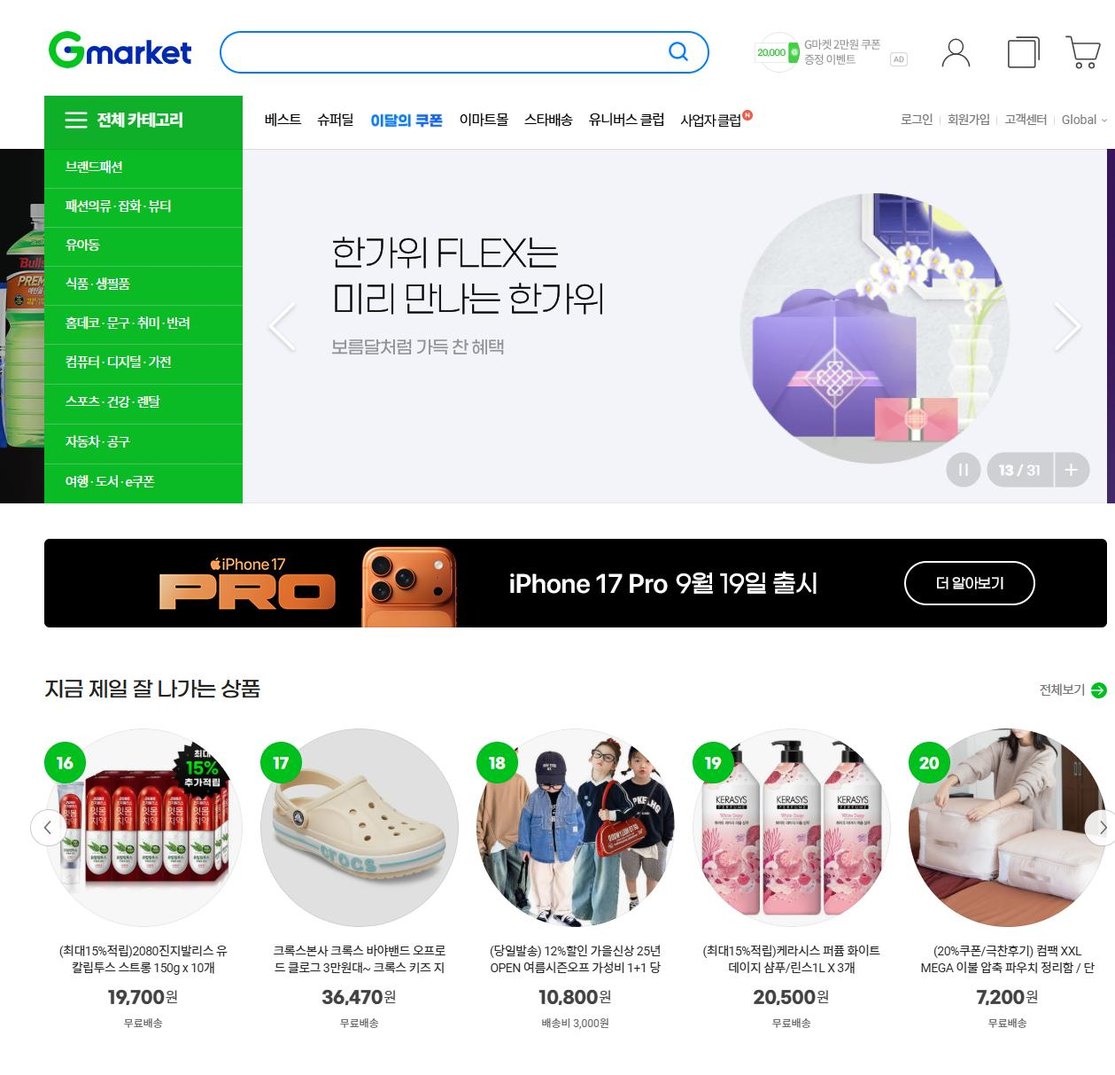button: (49, 104, 237, 146), (50, 189, 224, 227), (903, 556, 1037, 605), (52, 150, 215, 183), (51, 271, 224, 300), (52, 306, 225, 335), (54, 345, 227, 374), (56, 385, 229, 414), (56, 425, 229, 454), (52, 469, 225, 498), (52, 232, 216, 261), (993, 450, 1092, 489), (1042, 283, 1089, 356), (262, 300, 312, 362), (682, 104, 764, 140), (1031, 673, 1115, 708), (1059, 26, 1112, 81), (587, 106, 674, 139), (370, 106, 450, 140), (998, 28, 1049, 78), (522, 103, 582, 138), (939, 30, 983, 77), (459, 103, 518, 137), (1080, 804, 1115, 856), (257, 106, 305, 142), (313, 104, 356, 139), (28, 810, 67, 848), (946, 103, 995, 132), (1004, 105, 1051, 132), (894, 106, 936, 132), (947, 453, 979, 487)
checkbox: (1060, 105, 1115, 132)
input_field: (219, 26, 714, 75)
popup: (44, 537, 1103, 627), (742, 22, 925, 89)
